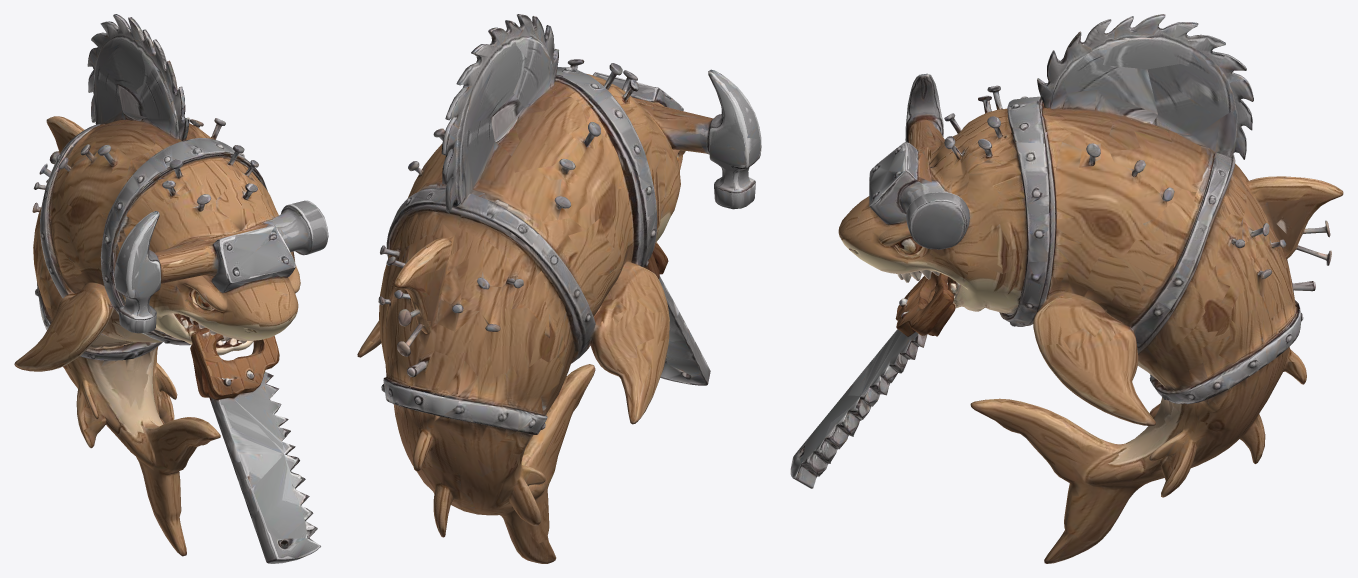
The picture shows the model from 3 angles, left to right: view 1: azimuth 30°, elevation 25°; view 2: azimuth 150°, elevation 25°; view 3: azimuth 270°, elevation 25°; orthographic projection. The views are drawn at different scales.
Parts seen in each view (by area): view 1: Mesh_0; view 2: Mesh_0; view 3: Mesh_0.
Boxes of the visible parts, box(x1,y1,x2,y2) form: Mesh_0: box(14, 14, 328, 563); Mesh_0: box(357, 14, 761, 563); Mesh_0: box(790, 14, 1343, 563).
Bounding box in the file's own units: 0.964 × 1.9 × 1.74.
Materials: 1 (1 with a texture image).
